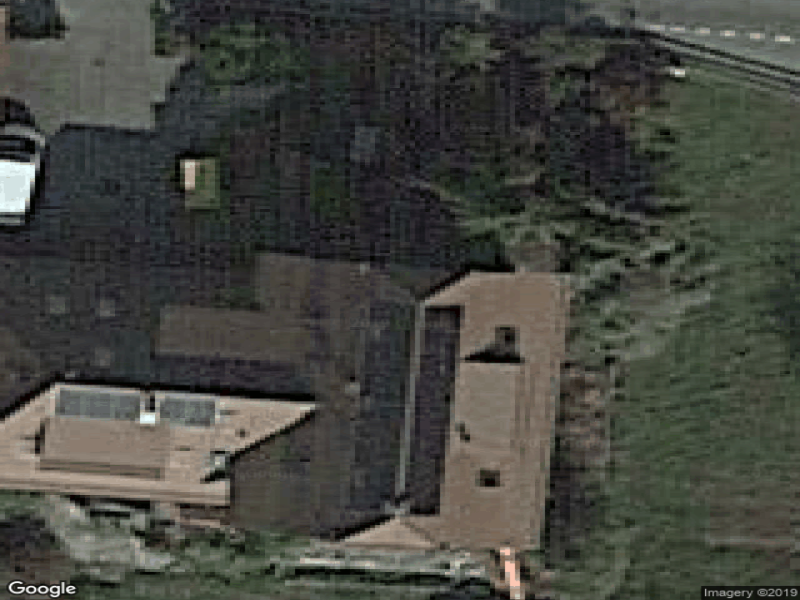pv: (345, 303, 463, 518)
